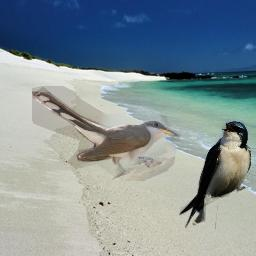Cuckoo: (32, 86, 180, 181)
Swallow: (179, 121, 251, 229)
